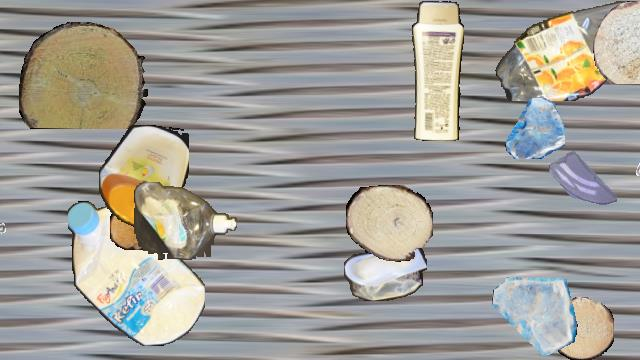glass: (491, 273, 577, 359), (549, 144, 617, 212), (504, 98, 564, 158)
metal: (611, 153, 640, 199), (0, 193, 15, 251)
plastic: (68, 200, 204, 346), (494, 1, 640, 101), (99, 125, 189, 227), (134, 182, 236, 260), (409, 1, 463, 141), (344, 240, 426, 300)
wood: (19, 22, 147, 128), (346, 185, 432, 261), (593, 1, 640, 83), (552, 297, 614, 359), (110, 204, 154, 250)
